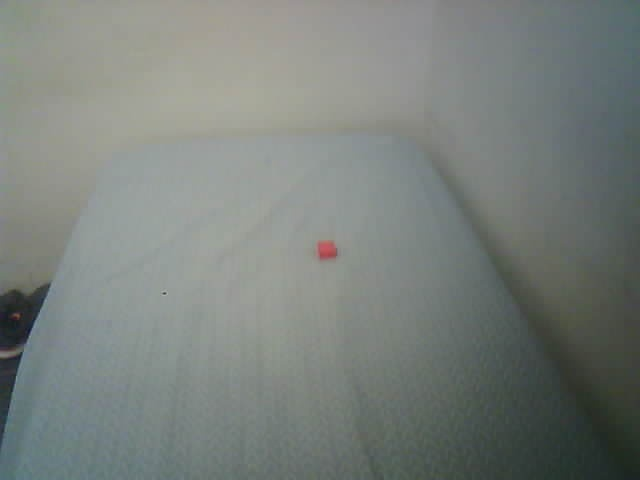lego: (316, 239, 338, 260)
